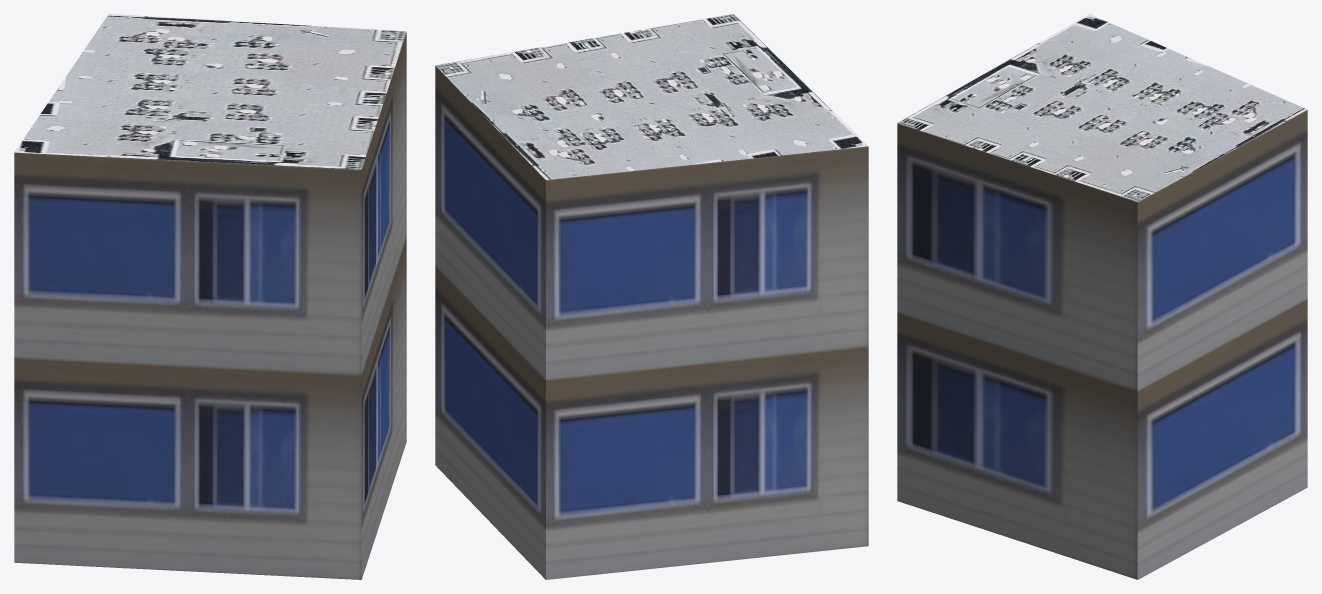
Rendered from ResTex__2510.fbx.
3 renders of one model, left to right at view 1: azimuth 30°, elevation 25°; view 2: azimuth 150°, elevation 25°; view 3: azimuth 270°, elevation 25°, orthographic. The views are drawn at different scales.
Visible parts, largest first — view 1: CityEngineMaterial_23_m, CityEngineMaterial_8_m; view 2: CityEngineMaterial_23_m, CityEngineMaterial_8_m; view 3: CityEngineMaterial_23_m, CityEngineMaterial_8_m.
Part boxes in pixels (x1,y1,x2,y2): CityEngineMaterial_23_m: (14,32,406,579); CityEngineMaterial_8_m: (14,14,406,169); CityEngineMaterial_23_m: (435,66,868,579); CityEngineMaterial_8_m: (435,14,868,179); CityEngineMaterial_23_m: (897,110,1307,579); CityEngineMaterial_8_m: (897,14,1307,201).
Size of the model in its own units: 6.41 by 6 by 5.91.
Materials: 2 (2 with a texture image).
